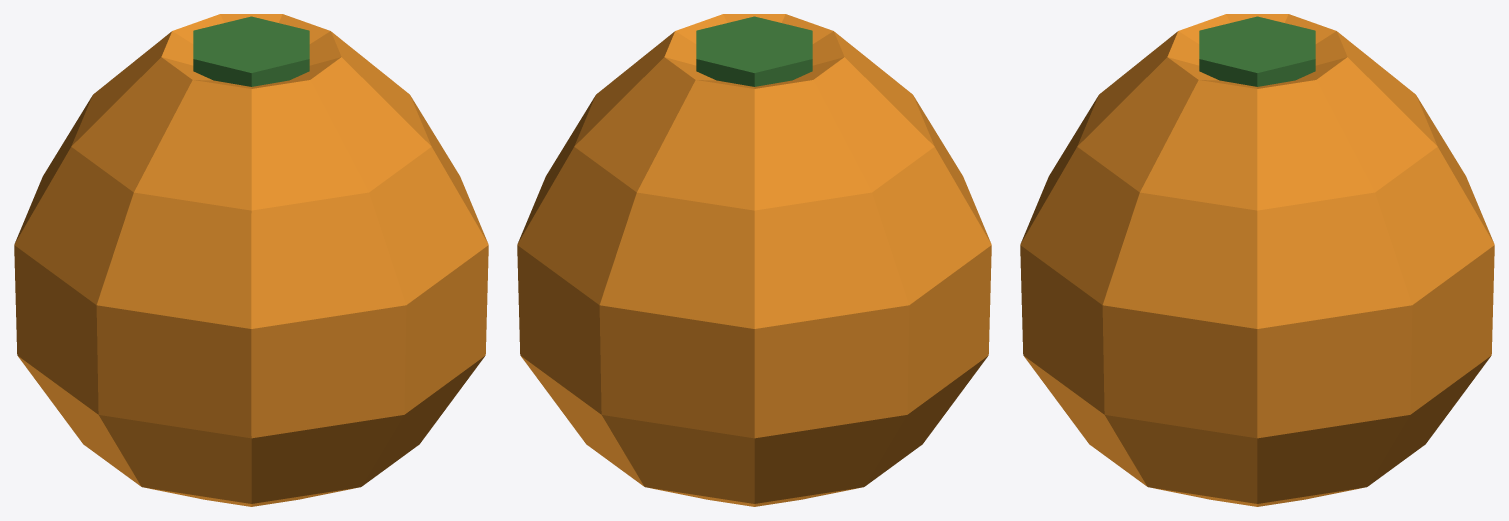
File: FD_Orange_01.glb
3 renders of one model, left to right at view 1: azimuth 30°, elevation 25°; view 2: azimuth 150°, elevation 25°; view 3: azimuth 270°, elevation 25°, orthographic.
Visible parts, largest first — view 1: FD_Orange_01; view 2: FD_Orange_01; view 3: FD_Orange_01.
Part boxes in pixels (<box>): FD_Orange_01: <box>14,14,488,506</box>; FD_Orange_01: <box>517,14,991,506</box>; FD_Orange_01: <box>1020,14,1494,506</box>.
Size of the model in its own units: 0.0766 by 0.078 by 0.0778.
Materials: 1 (1 with a texture image).
